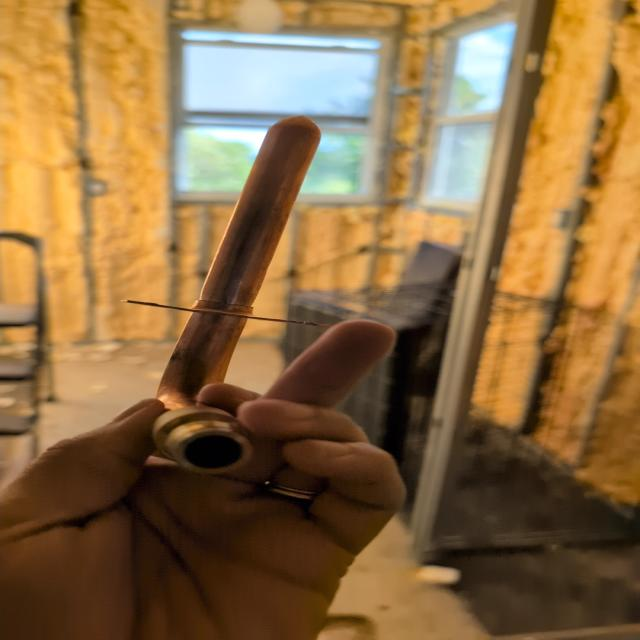wall_flange: (110, 95, 323, 475)
